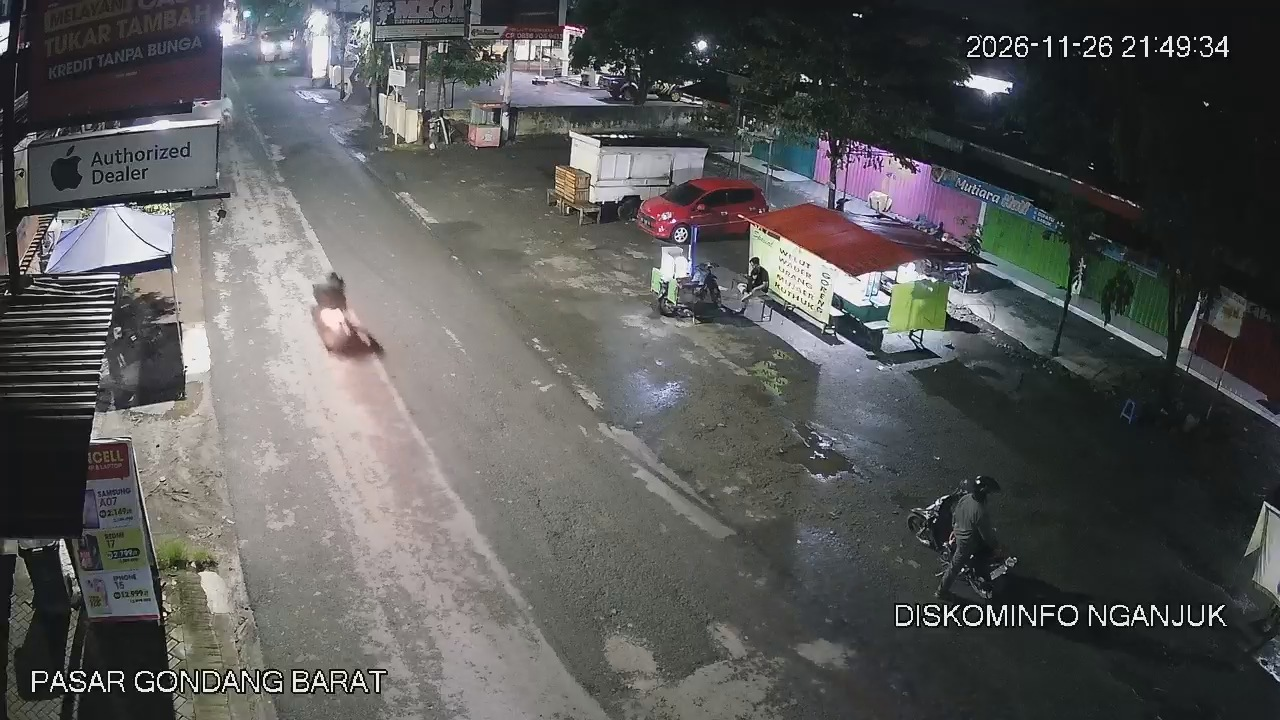Gerobak: (650, 243, 722, 318)
